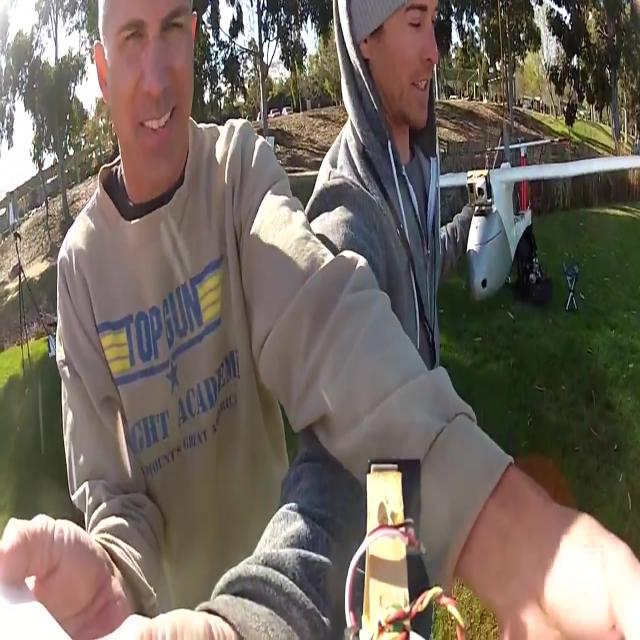iha: (435, 136, 640, 312)
